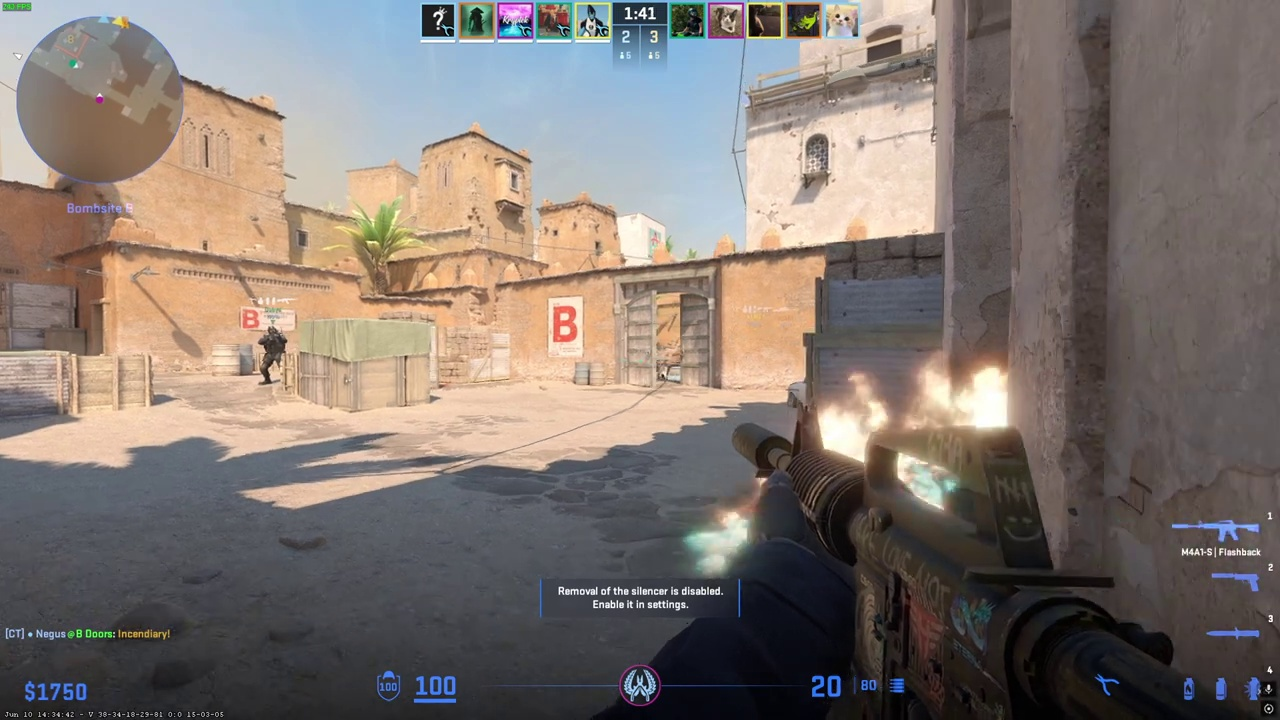CT: (258, 326, 285, 385)
